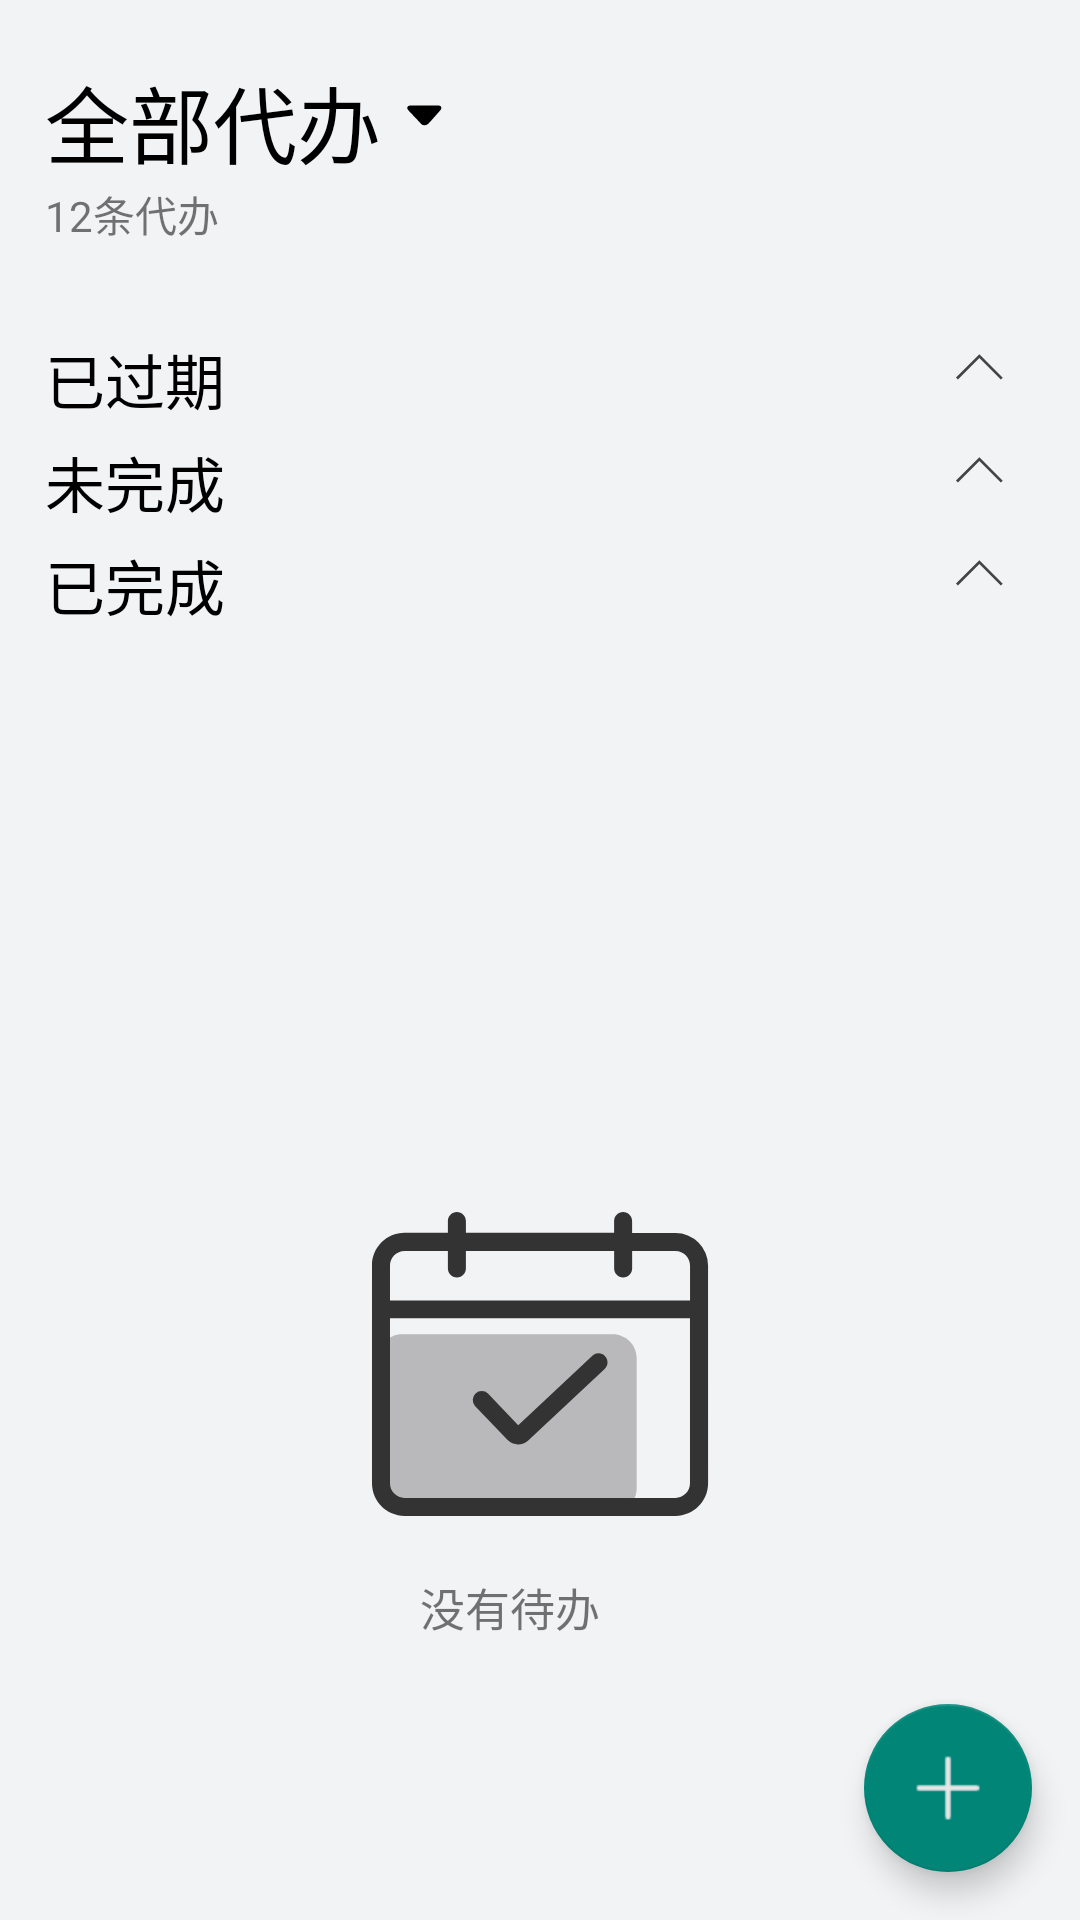

Where icons sit on this 1080*1920 app screen, as (x1, y1, x2, y2):
addmemo: (864, 1704, 1032, 1872)
shou qi: (956, 354, 1003, 380), (956, 457, 1003, 483), (956, 560, 1003, 586)
